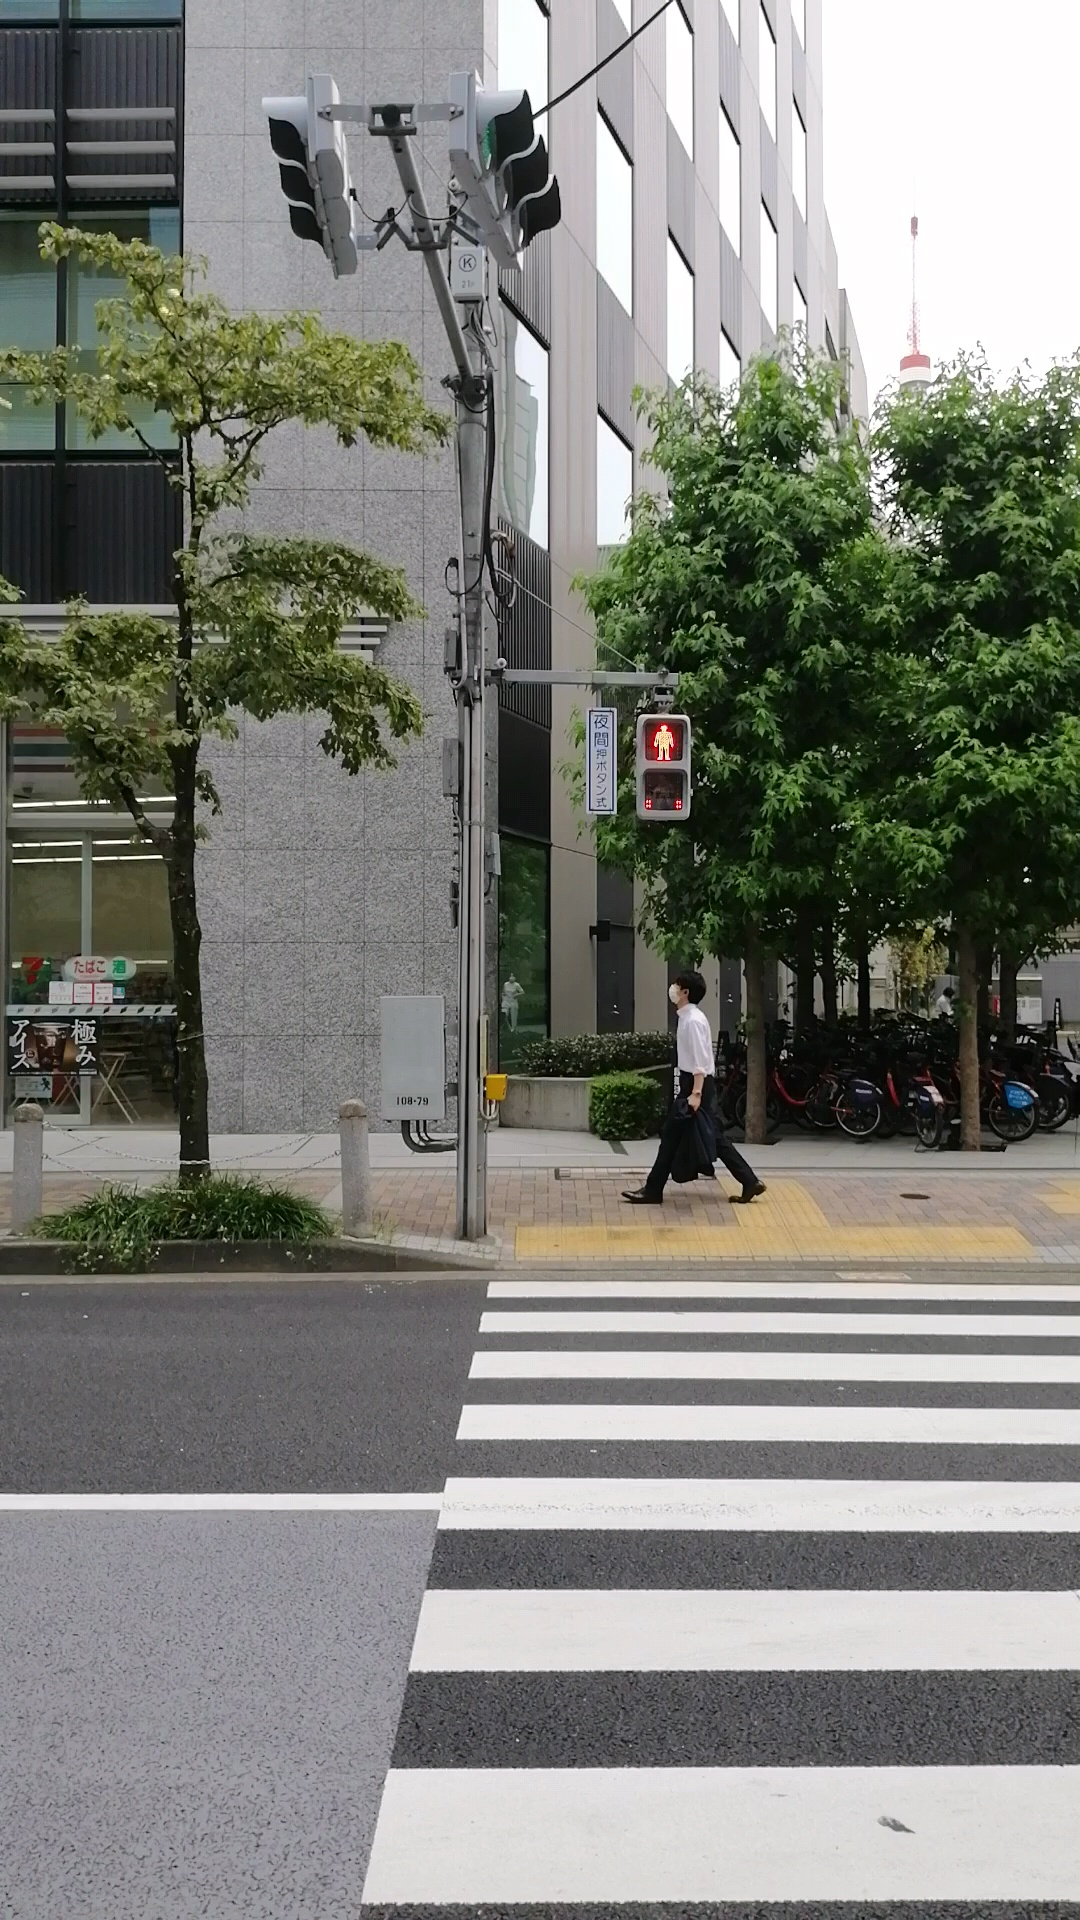red: (633, 712, 692, 823)
